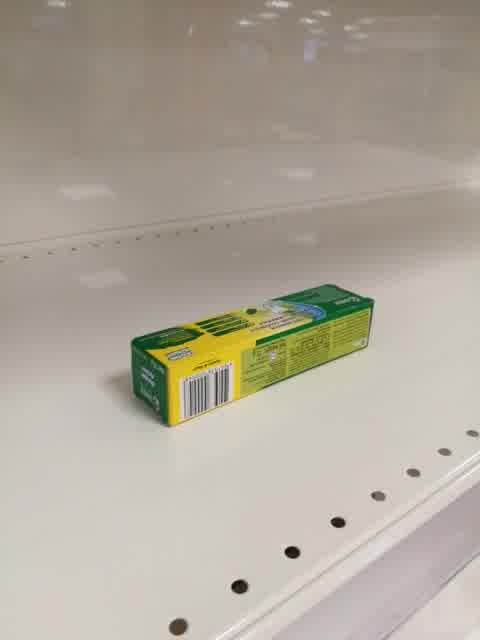toothpaste: (130, 283, 376, 428)
